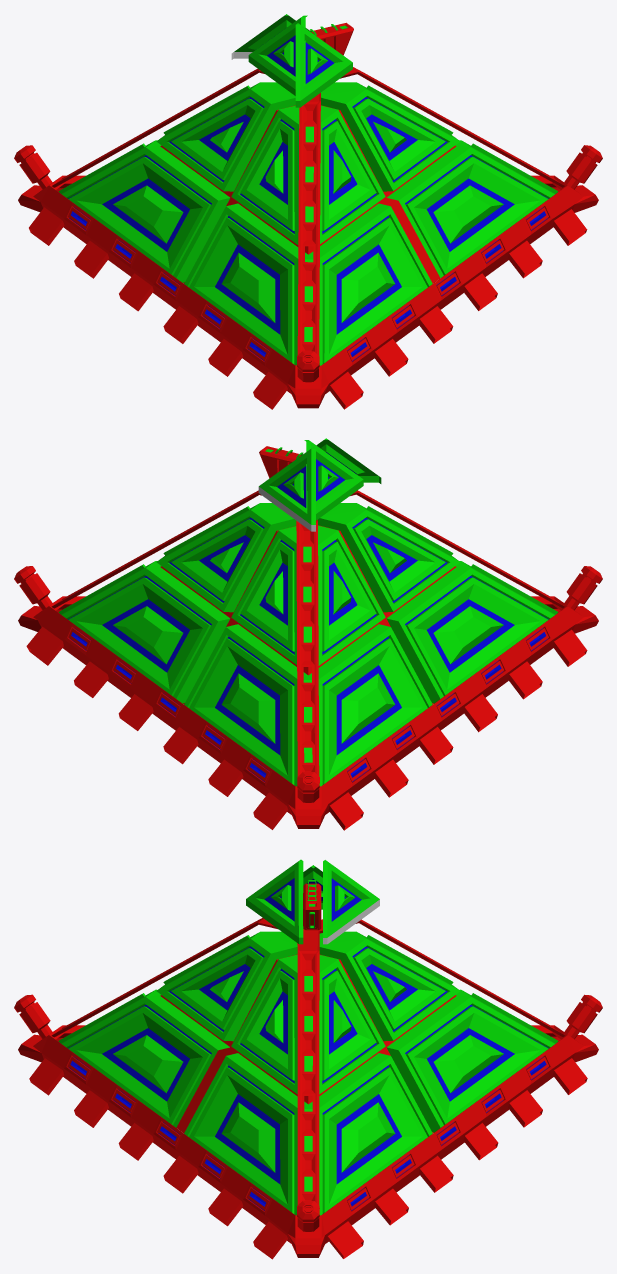
3 views of the same model, one above another, from view 1: azimuth 30°, elevation 25°; view 2: azimuth 150°, elevation 25°; view 3: azimuth 270°, elevation 25° (orthographic).
Visible parts, largest first — view 1: PyramidIntern_01, Object001, Object004, Object003, Object002; view 2: PyramidIntern_01, Object002, Object004, Object001, Object003; view 3: PyramidIntern_01, Object001, Object002, Object003.
Part boxes in pixels (left/top/right/bottom): PyramidIntern_01: left=14, top=52, right=602, bottom=409; Object001: left=295, top=23, right=352, bottom=107; Object004: left=248, top=15, right=307, bottom=95; Object003: left=310, top=22, right=353, bottom=55; Object002: left=234, top=14, right=310, bottom=51; PyramidIntern_01: left=14, top=487, right=602, bottom=830; Object002: left=259, top=447, right=315, bottom=524; Object004: left=304, top=440, right=363, bottom=520; Object001: left=316, top=438, right=381, bottom=483; Object003: left=259, top=446, right=303, bottom=478; PyramidIntern_01: left=14, top=899, right=602, bottom=1259; Object001: left=246, top=859, right=303, bottom=944; Object002: left=323, top=860, right=379, bottom=937; Object003: left=303, top=880, right=321, bottom=930.
Bounding box in the file's own units: 498 × 564 × 281.
